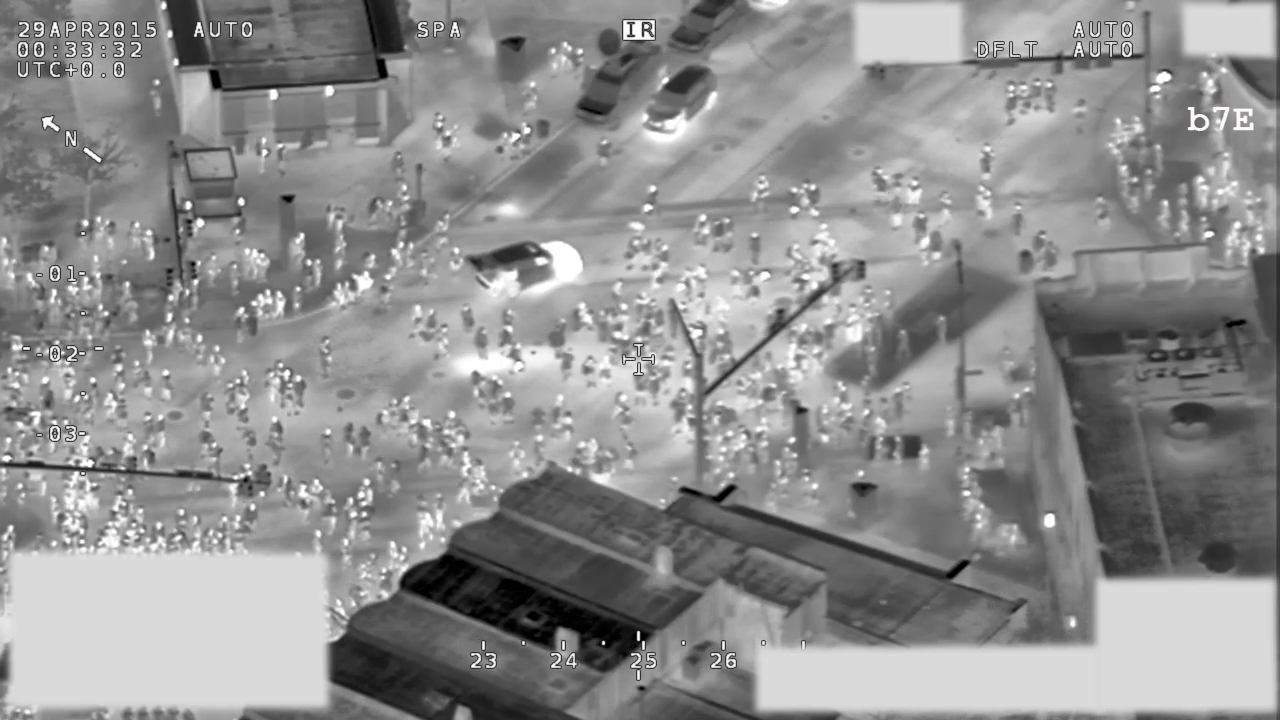vehicle: (569, 26, 667, 135), (459, 235, 591, 300), (639, 60, 724, 143)
